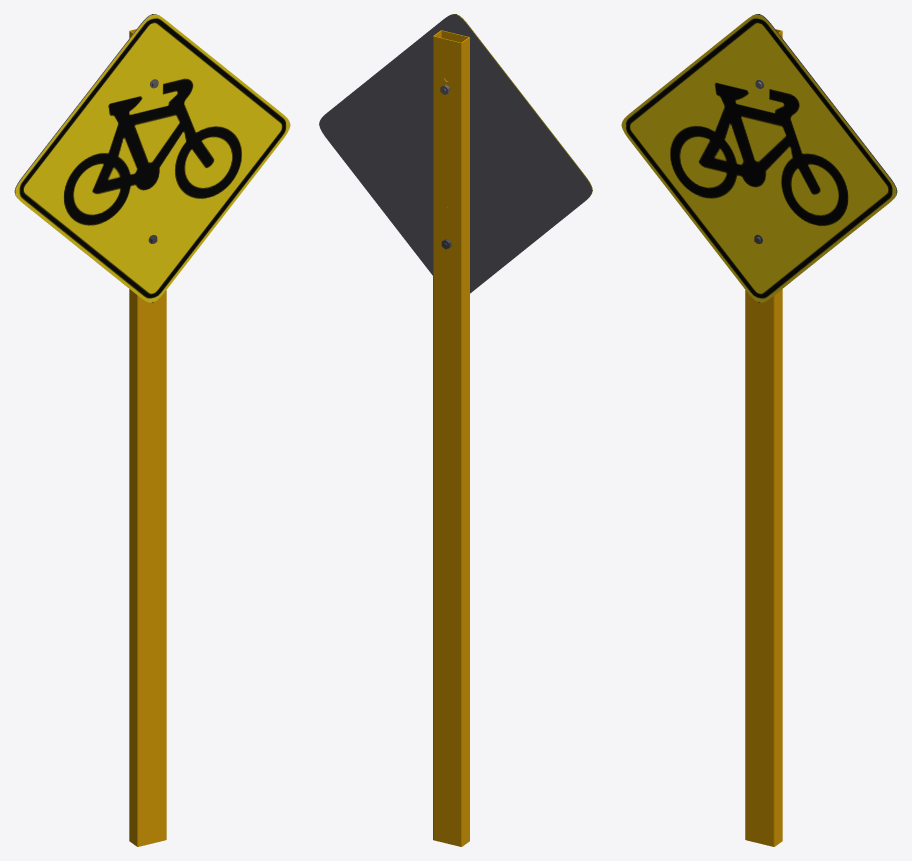
Rendered from bikes.fbx.
3 views of the same model, side by side, from view 1: azimuth 30°, elevation 25°; view 2: azimuth 150°, elevation 25°; view 3: azimuth 330°, elevation 25° (orthographic).
Parts seen in each view (by area): view 1: Grid, Cube; view 2: Grid.001, Cube; view 3: Grid, Cube.
Part boxes in pixels (bbox=[...]): Grid: bbox=[15, 14, 290, 302]; Cube: bbox=[129, 29, 166, 846]; Grid.001: bbox=[319, 14, 592, 293]; Cube: bbox=[433, 30, 469, 846]; Grid: bbox=[621, 14, 896, 302]; Cube: bbox=[745, 29, 782, 846].
Bounding box in the file's own units: 94.33 × 272 × 8.13.
